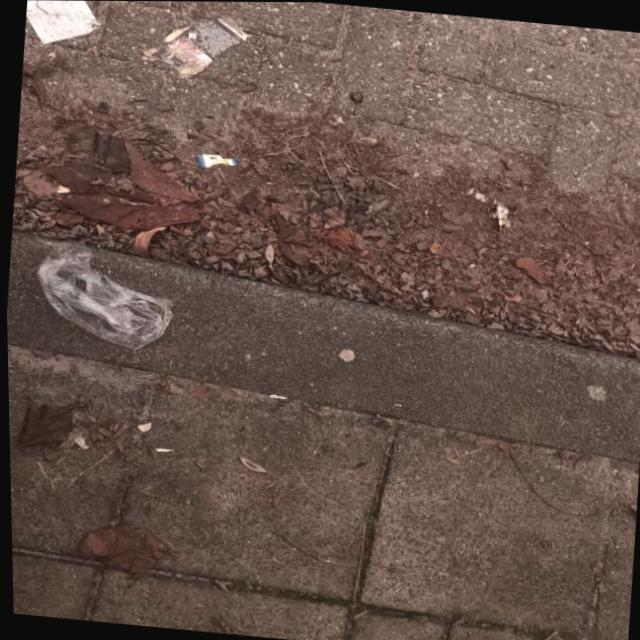Plastic: (196, 152, 243, 169)
